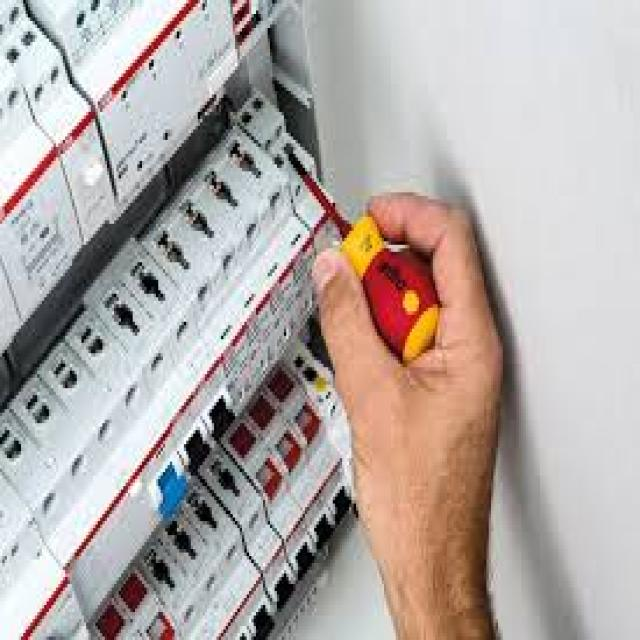screw driver: (272, 121, 445, 391)
